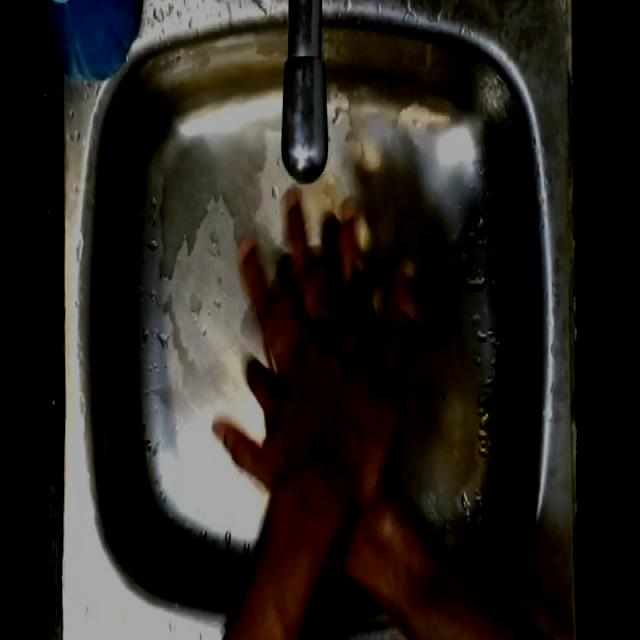step_2: (210, 187, 424, 510)
